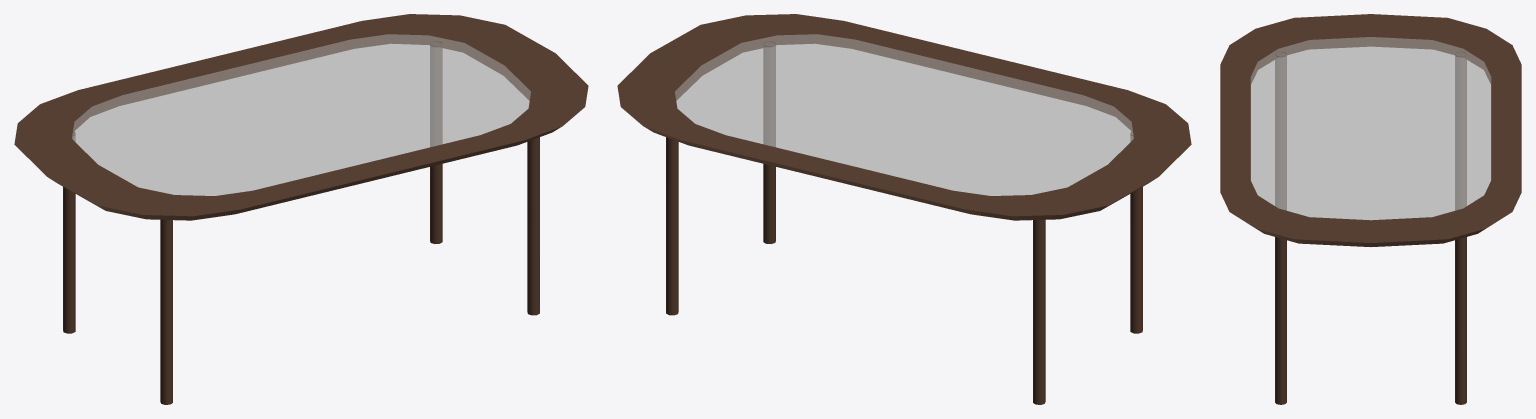
Rendered from Mesh_Mesa.fbx.
The picture shows the model from 3 angles, left to right: view 1: azimuth 30°, elevation 25°; view 2: azimuth 150°, elevation 25°; view 3: azimuth 270°, elevation 25°; orthographic projection. The views are drawn at different scales.
Visible parts, largest first — view 1: Mesh_ComedorMesa; view 2: Mesh_ComedorMesa; view 3: Mesh_ComedorMesa.
Boxes of the visible parts, left/top/right/bottom form: Mesh_ComedorMesa: left=14, top=14, right=588, bottom=404; Mesh_ComedorMesa: left=617, top=14, right=1191, bottom=404; Mesh_ComedorMesa: left=1220, top=14, right=1521, bottom=404.
Bounding box in the file's own units: 180 × 70 × 100.
